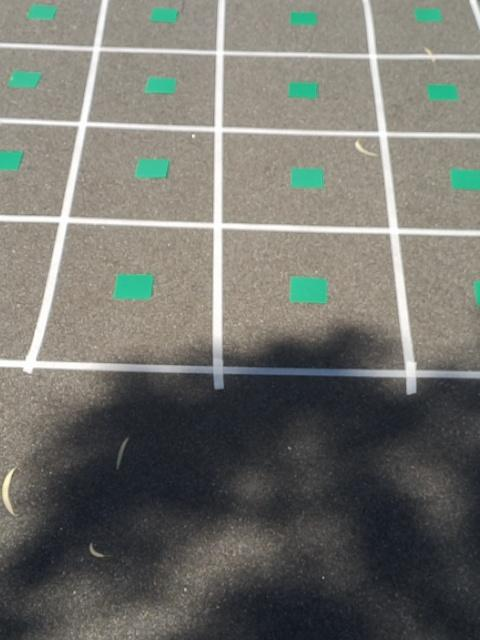weed: (288, 274, 330, 304), (113, 273, 154, 301), (289, 166, 325, 189), (135, 158, 170, 180), (449, 169, 480, 193), (144, 76, 178, 95), (412, 5, 444, 25), (8, 71, 44, 88), (148, 6, 180, 24), (0, 149, 25, 171), (429, 82, 455, 103), (289, 9, 320, 25), (288, 82, 319, 98), (25, 5, 58, 20), (473, 279, 480, 305)
